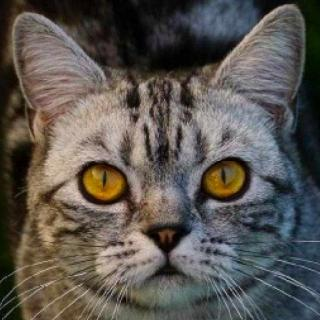cat: (8, 8, 314, 308)
nose: (131, 200, 202, 258)
